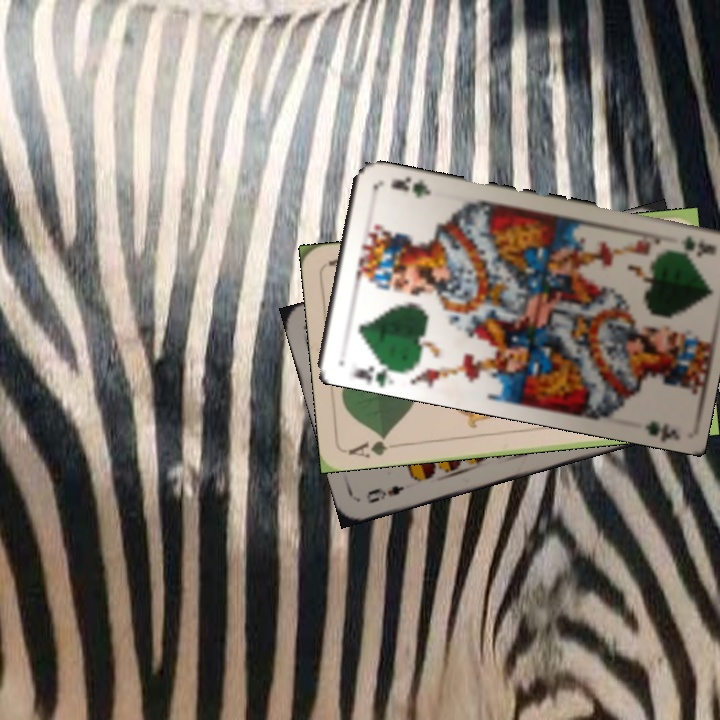E9: (362, 481, 407, 506)
GA: (344, 431, 403, 460)
GK: (348, 357, 398, 387), (677, 232, 718, 258)
